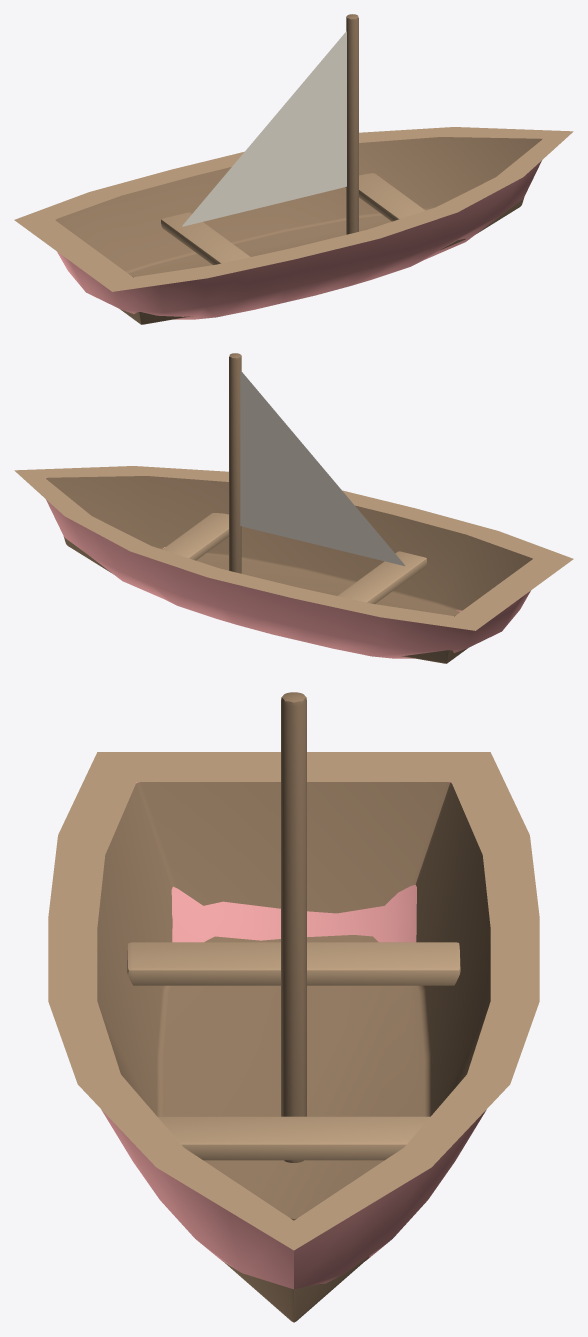
Rendered from Boat.fbx.
3 views of the same model, one above another, from view 1: azimuth 30°, elevation 25°; view 2: azimuth 150°, elevation 25°; view 3: azimuth 270°, elevation 25° (orthographic). The views are drawn at different scales.
Visible parts, largest first — view 1: Boat_Model; view 2: Boat_Model; view 3: Boat_Model.
Part boxes in pixels (left/top/right/bottom): Boat_Model: left=14, top=14, right=573, bottom=324; Boat_Model: left=14, top=353, right=573, bottom=663; Boat_Model: left=48, top=692, right=539, bottom=1322.
Bounding box in the file's own units: 6 × 2.86 × 2.5.
